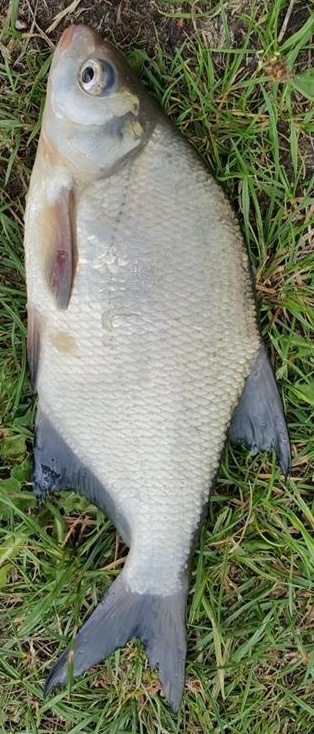Abramis brama: (20, 20, 294, 714)
